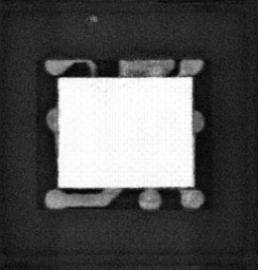DIE_INK: (87, 12, 98, 22)
